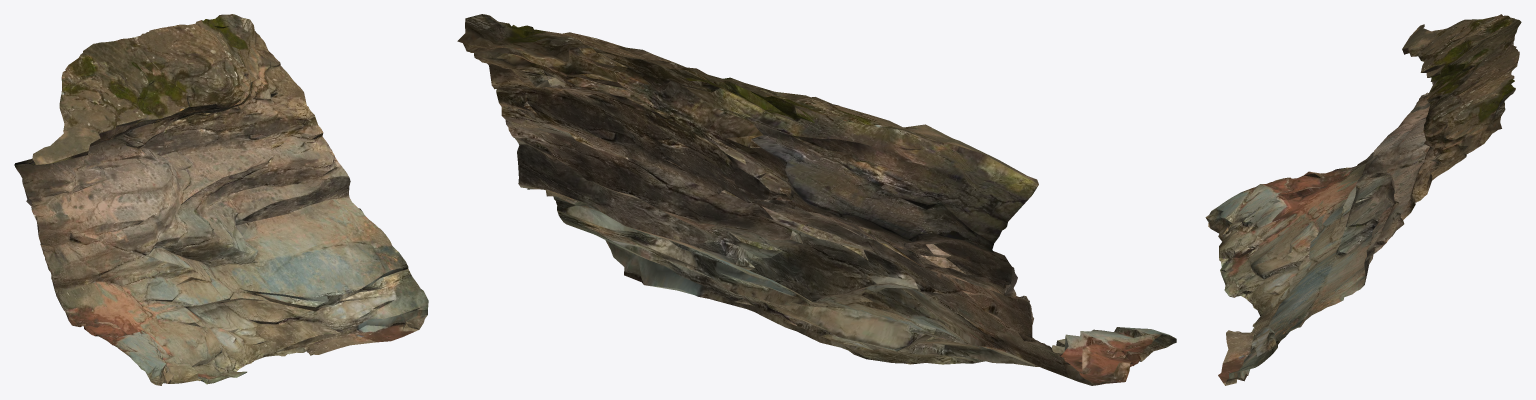
Rendered from rock_face_a.glb.
The picture shows the model from 3 angles, left to right: view 1: azimuth 30°, elevation 25°; view 2: azimuth 150°, elevation 25°; view 3: azimuth 270°, elevation 25°; orthographic projection. The views are drawn at different scales.
Visible parts, largest first — view 1: rock_face_a; view 2: rock_face_a; view 3: rock_face_a.
Part boxes in pixels (bbox=[...]): rock_face_a: bbox=[14, 14, 428, 385]; rock_face_a: bbox=[457, 14, 1176, 385]; rock_face_a: bbox=[1205, 14, 1521, 385].
Size of the model in its own units: 4.95 by 3.57 by 3.83.
Materials: 1 (1 with a texture image).
